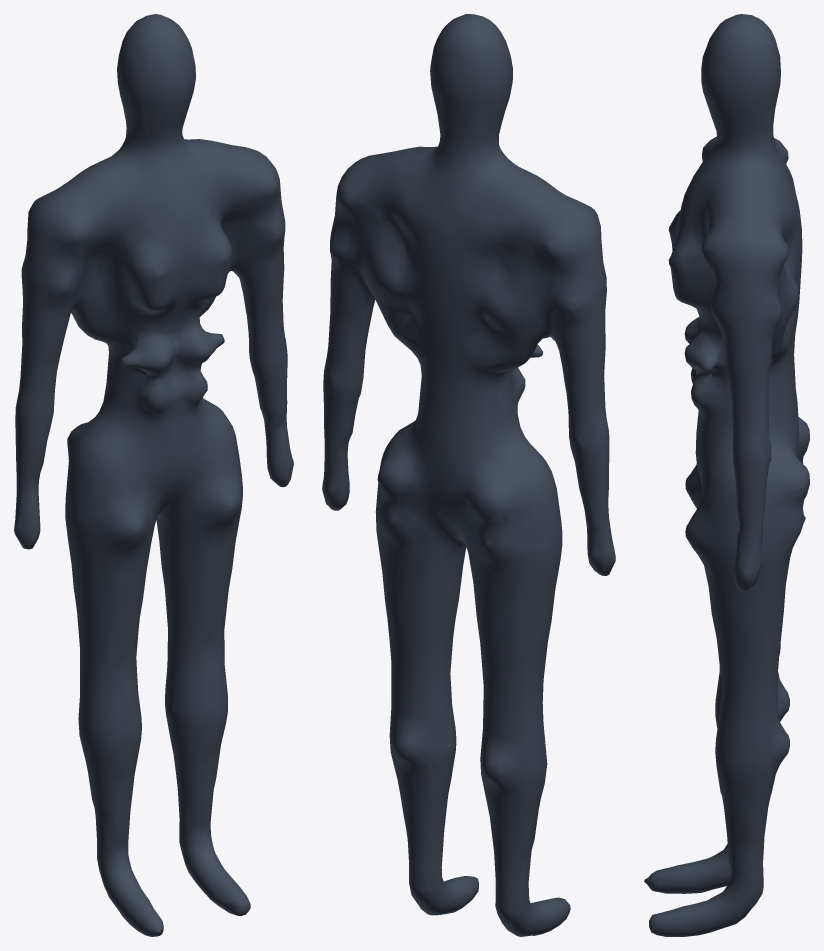
The model's file is hunter-standin.glb.
3 renders of one model, left to right at view 1: azimuth 30°, elevation 25°; view 2: azimuth 150°, elevation 25°; view 3: azimuth 270°, elevation 25°, orthographic. The views are drawn at different scales.
Parts seen in each view (by area): view 1: Hunter; view 2: Hunter; view 3: Hunter.
Boxes of the visible parts, left/top/right/bottom form: Hunter: left=14, top=14, right=293, bottom=936; Hunter: left=322, top=14, right=615, bottom=936; Hunter: left=644, top=14, right=809, bottom=936.
Bounding box in the file's own units: 0.6064 × 1.83 × 0.3074.
